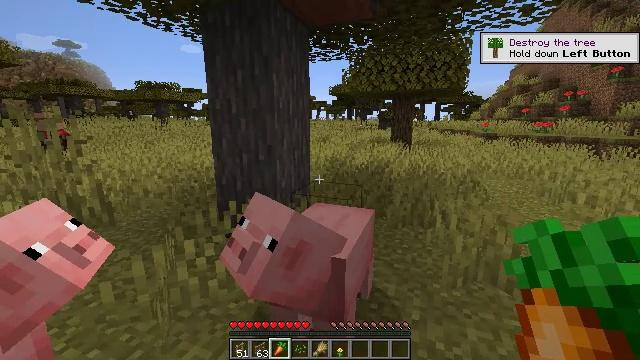pig: (221, 192, 374, 317), (0, 198, 115, 360)
